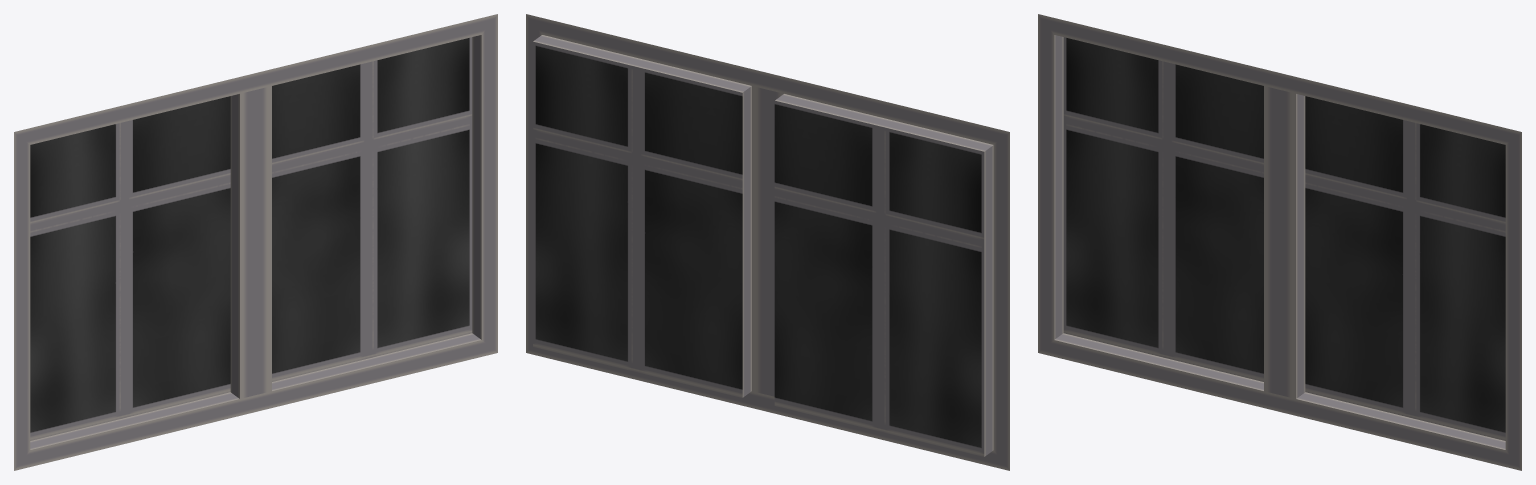
File: SM_ENV_K1_WINDOW_01.fbx
3 views of the same model, side by side, from view 1: azimuth 30°, elevation 25°; view 2: azimuth 150°, elevation 25°; view 3: azimuth 330°, elevation 25° (orthographic).
Parts seen in each view (by area): view 1: SM_ENV_K1_WINDOW_01; view 2: SM_ENV_K1_WINDOW_01; view 3: SM_ENV_K1_WINDOW_01.
Boxes of the visible parts, x1,y1,x2,y2 form: SM_ENV_K1_WINDOW_01: (14,14,497,470); SM_ENV_K1_WINDOW_01: (526,14,1009,470); SM_ENV_K1_WINDOW_01: (1038,14,1521,470).
Bounding box in the file's own units: 1.5 × 1 × 0.05.
